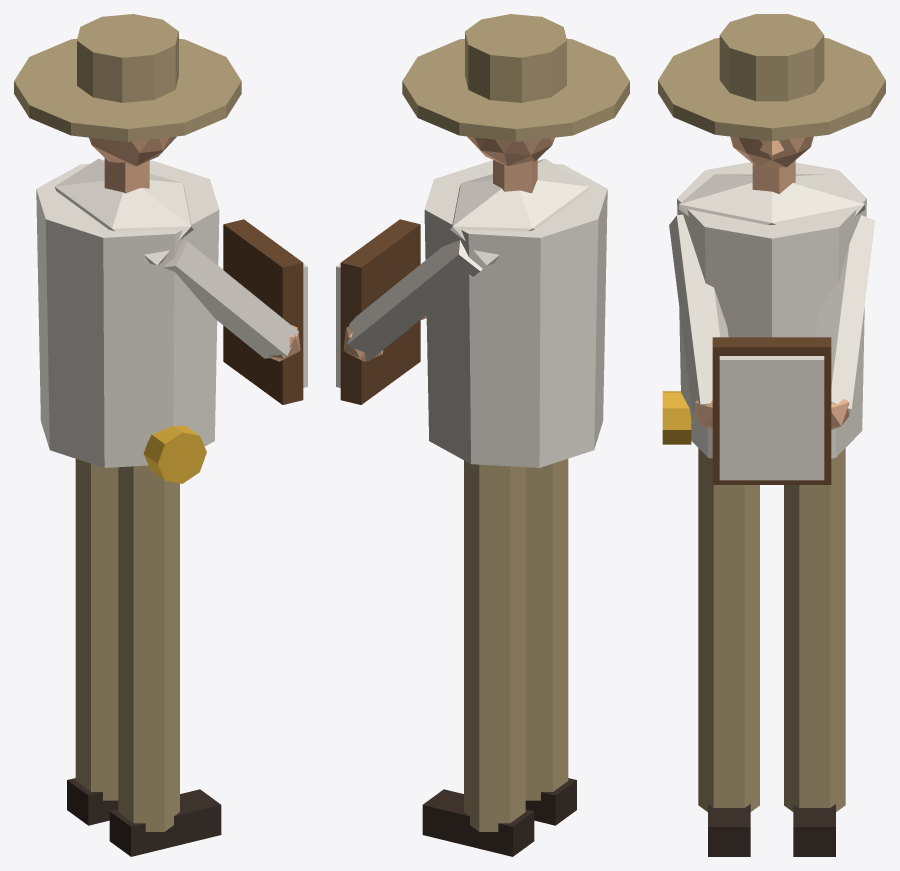
Rendered from arkeolog_2.glb.
3 views of the same model, side by side, from view 1: azimuth 30°, elevation 25°; view 2: azimuth 150°, elevation 25°; view 3: azimuth 270°, elevation 25° (orthographic).
Visible parts, largest first — view 1: arkeolog_2; view 2: arkeolog_2; view 3: arkeolog_2.
Boxes of the visible parts, <box> form: arkeolog_2: <box>14,14,307,856</box>; arkeolog_2: <box>336,14,629,856</box>; arkeolog_2: <box>658,14,885,856</box>.
Size of the model in its own units: 0.615 by 1.84 by 0.48.
